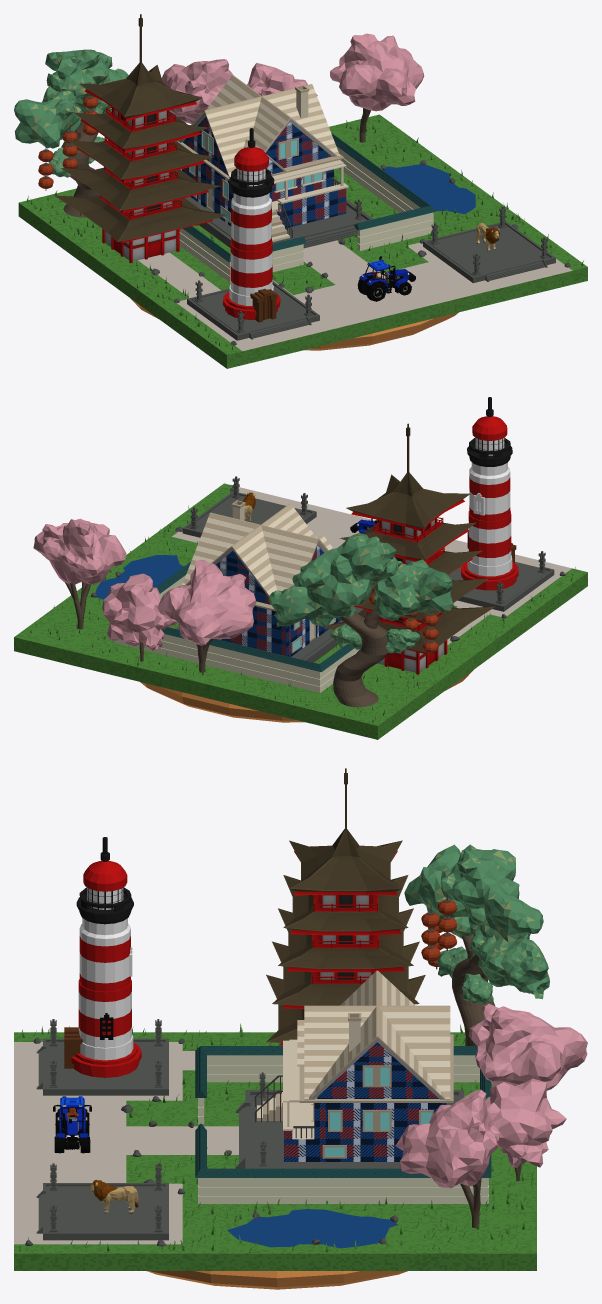
The picture shows the model from 3 angles, top to bottom: view 1: azimuth 30°, elevation 25°; view 2: azimuth 150°, elevation 25°; view 3: azimuth 270°, elevation 25°; orthographic projection. The views are drawn at different scales.
Parts seen in each view (by area): view 1: Cube.005, Cube.171, OBJRANDOM_LIGHTHOUSE, VEHICLES_TRACTOR, UNDERGROUND_PIZZA; view 2: Cube.005, Cube.171, OBJRANDOM_LIGHTHOUSE, UNDERGROUND_PIZZA; view 3: Cube.005, Cube.171, OBJRANDOM_LIGHTHOUSE, UNDERGROUND_PIZZA, VEHICLES_TRACTOR, ANIMAL_LEON.
Part boxes in pixels (x1=…): Cube.005: x1=14, y1=14, x2=587, y2=368; Cube.171: x1=176, y1=75, x2=348, y2=241; OBJRANDOM_LIGHTHOUSE: x1=223, y1=128, x2=280, y2=322; VEHICLES_TRACTOR: x1=357, y1=256, x2=415, y2=301; UNDERGROUND_PIZZA: x1=130, y1=298, x2=458, y2=350; Cube.005: x1=14, y1=423, x2=587, y2=739; Cube.171: x1=178, y1=500, x2=340, y2=656; OBJRANDOM_LIGHTHOUSE: x1=461, y1=397, x2=518, y2=590; UNDERGROUND_PIZZA: x1=140, y1=670, x2=473, y2=722; Cube.005: x1=14, y1=768, x2=587, y2=1270; Cube.171: x1=254, y1=970, x2=453, y2=1161; OBJRANDOM_LIGHTHOUSE: x1=64, y1=837, x2=141, y2=1077; UNDERGROUND_PIZZA: x1=147, y1=1271, x2=407, y2=1289; VEHICLES_TRACTOR: x1=53, y1=1096, x2=91, y2=1153; ANIMAL_LEON: x1=89, y1=1179, x2=138, y2=1213.
Bounding box in the file's own units: 4528 × 2902 × 4389.
Materials: 45 (6 with a texture image).
